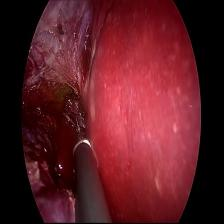Hook: (70, 114, 96, 160)
